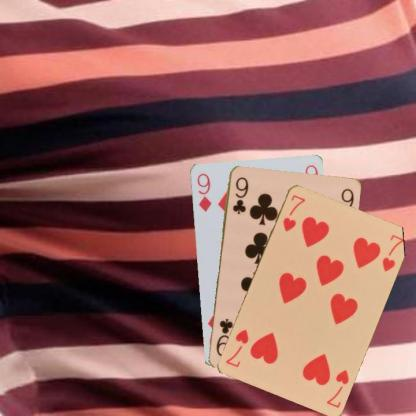7h: (324, 366, 350, 409), (280, 192, 307, 233)
9c: (230, 174, 250, 215)
9d: (194, 170, 213, 212)
